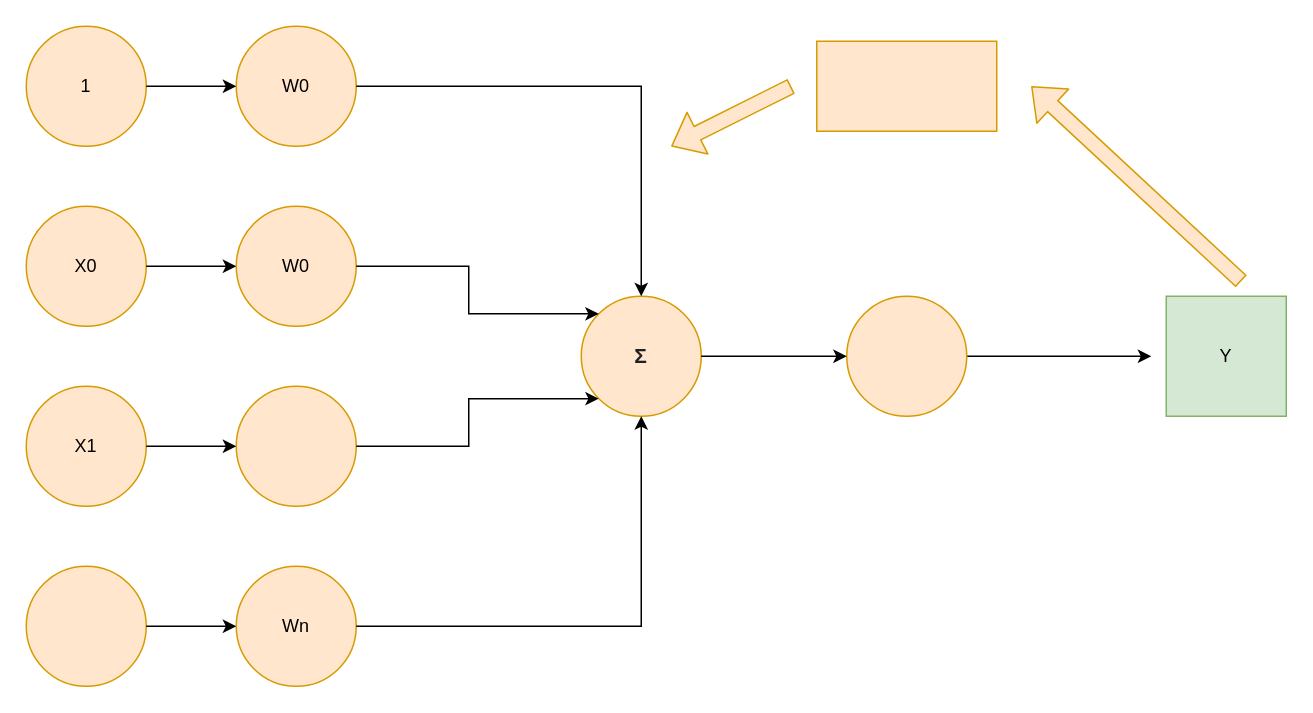
Some shapes in this 1313 by 713 pixel diagram are drawn without their labels. Each missing label, with the centre of its shape:
"Errore" belongs at [906,85].
"Sigmoid" belongs at [906,355].
"W1" belongs at [295,445].
"Xn" belongs at [85,625].
